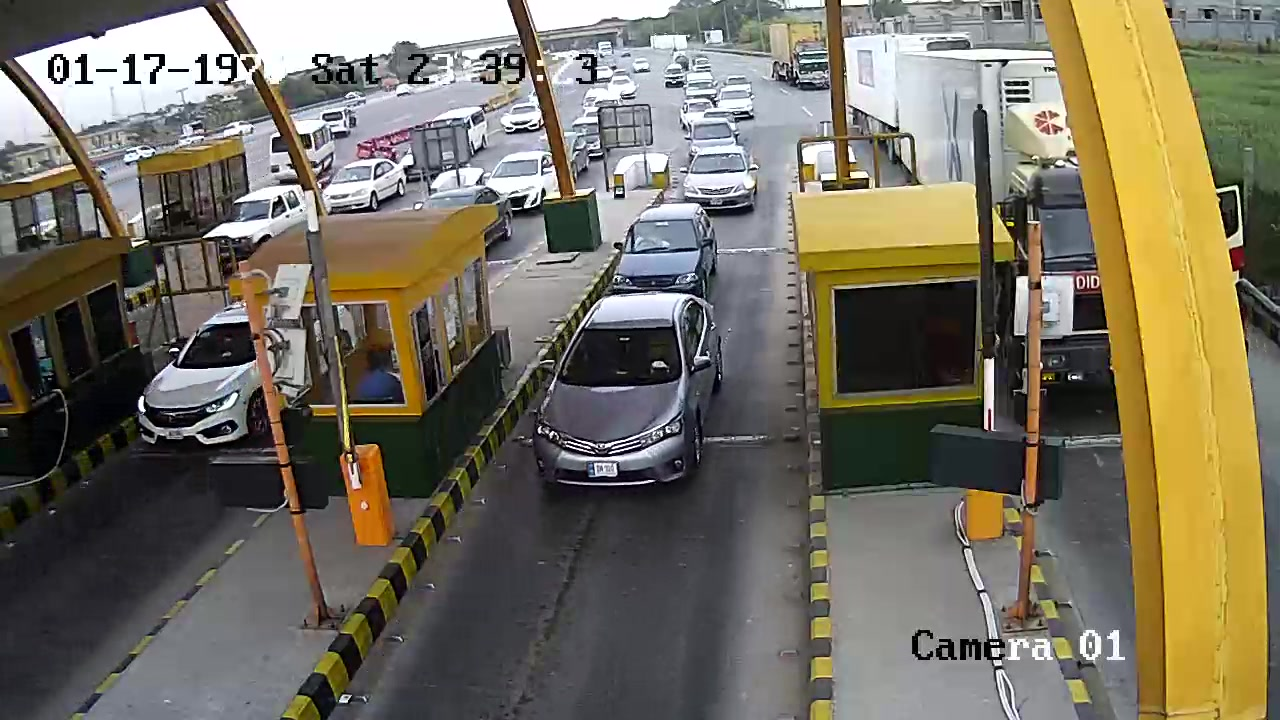F1: (527, 289, 747, 498)
